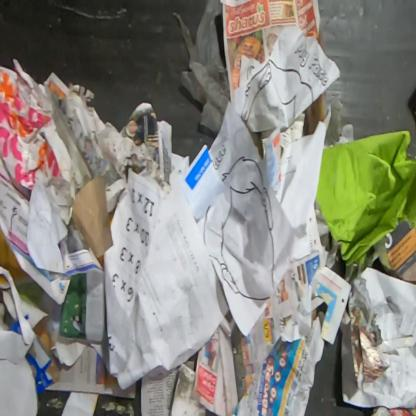cardboard: (313, 130, 415, 271)
soft_plastic: (172, 0, 231, 134)
